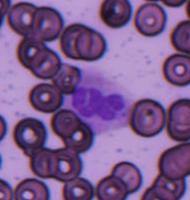N: (70, 67, 134, 133)
